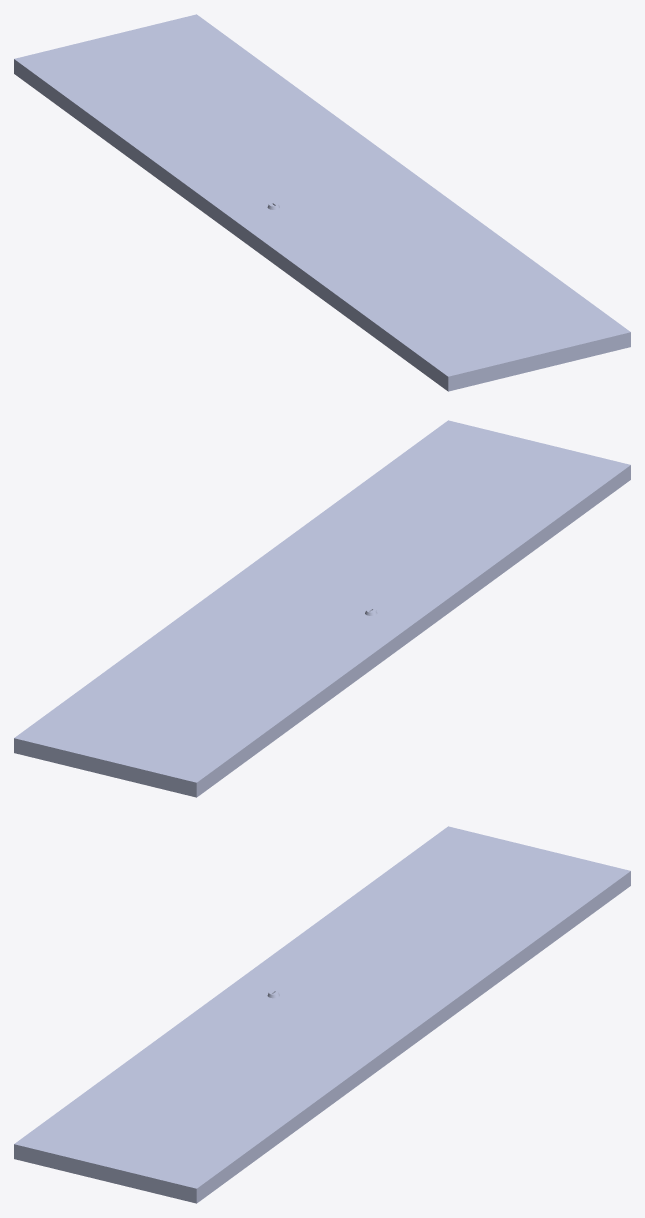
The model's file is Door Pantry.fbx.
The picture shows the model from 3 angles, top to bottom: view 1: azimuth 30°, elevation 25°; view 2: azimuth 150°, elevation 25°; view 3: azimuth 330°, elevation 25°; orthographic projection.
Parts seen in each view (by area): view 1: Body_1; view 2: Body_1; view 3: Body_1.
Boxes of the visible parts, box(x1,y1,x2,y2) form: Body_1: box(14, 14, 630, 391); Body_1: box(14, 420, 630, 797); Body_1: box(14, 826, 630, 1203).
Bounding box in the file's own units: 0.3262 × 1.34 × 0.0305.
